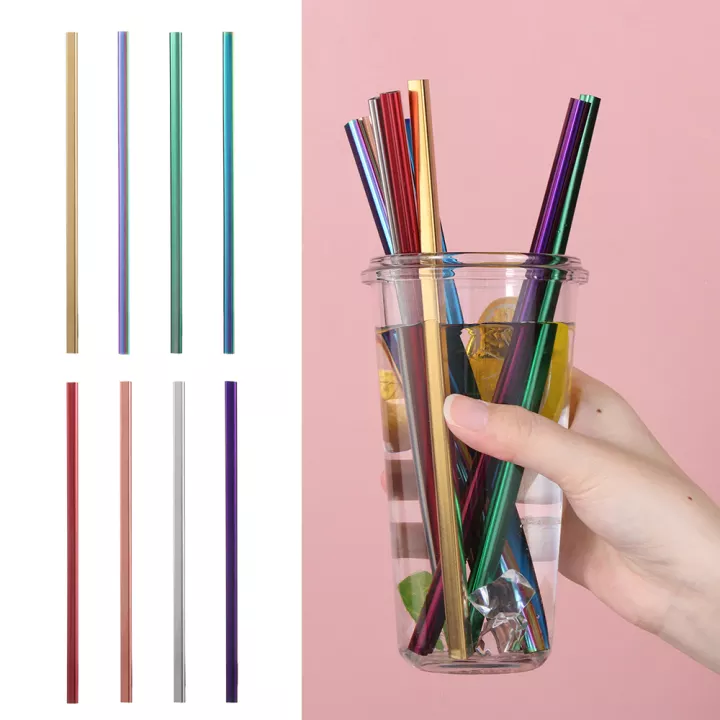Drinking Straw: (61, 377, 86, 707), (165, 25, 188, 359), (112, 27, 135, 358), (169, 377, 191, 708), (116, 377, 138, 707), (220, 376, 241, 707), (62, 27, 82, 358), (218, 26, 238, 356)
